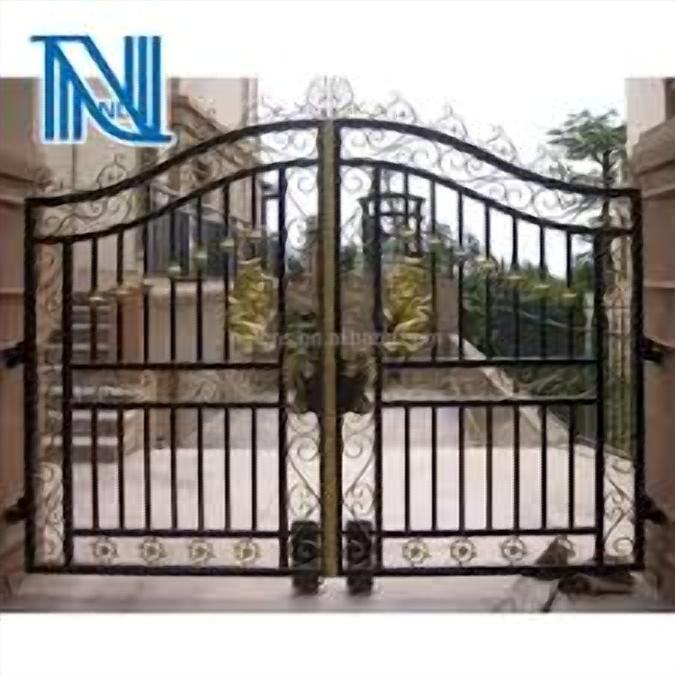Building: (0, 77, 271, 439)
Gate: (17, 76, 645, 595)
